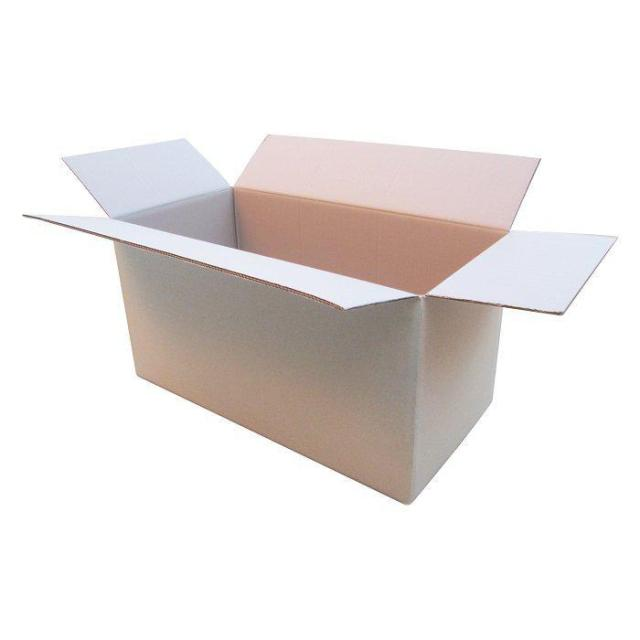Garbage: (21, 133, 615, 504)
